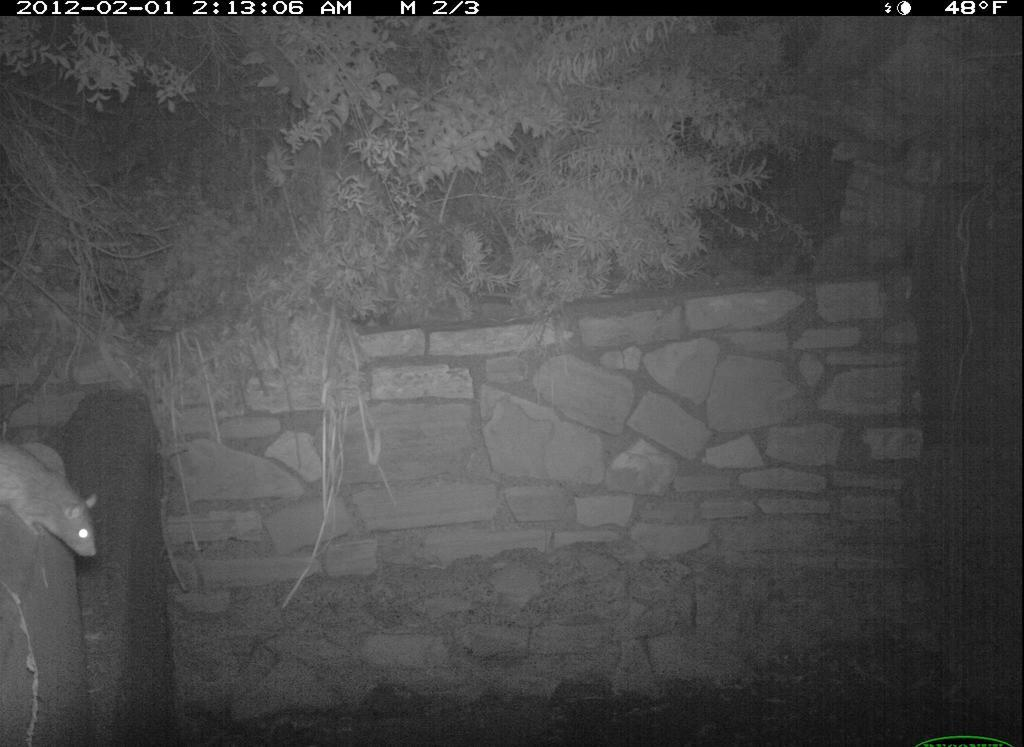rodent: (1, 419, 108, 580)
